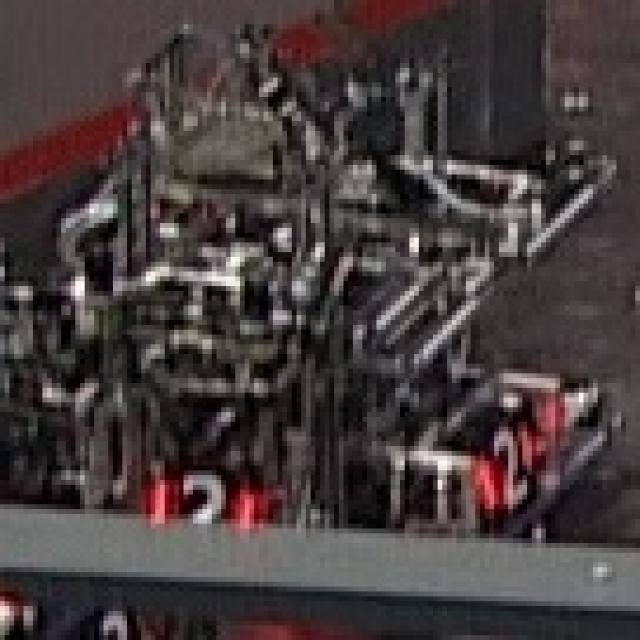R2: (471, 422, 532, 514)
